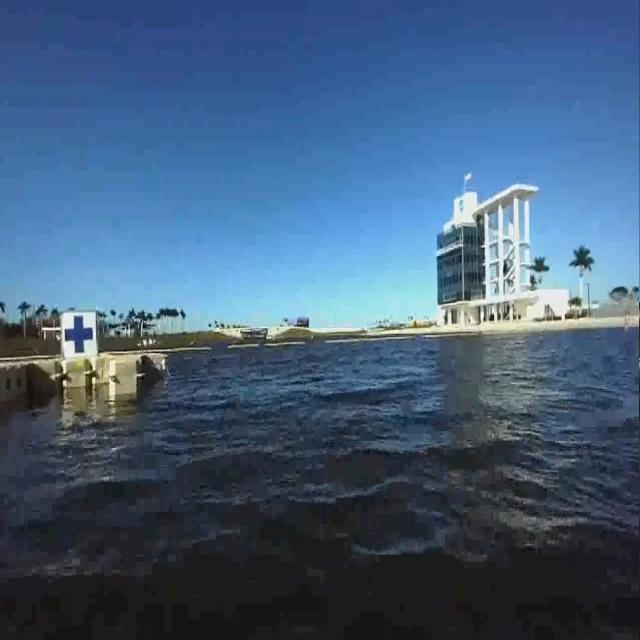blue-cross: (59, 302, 100, 370)
